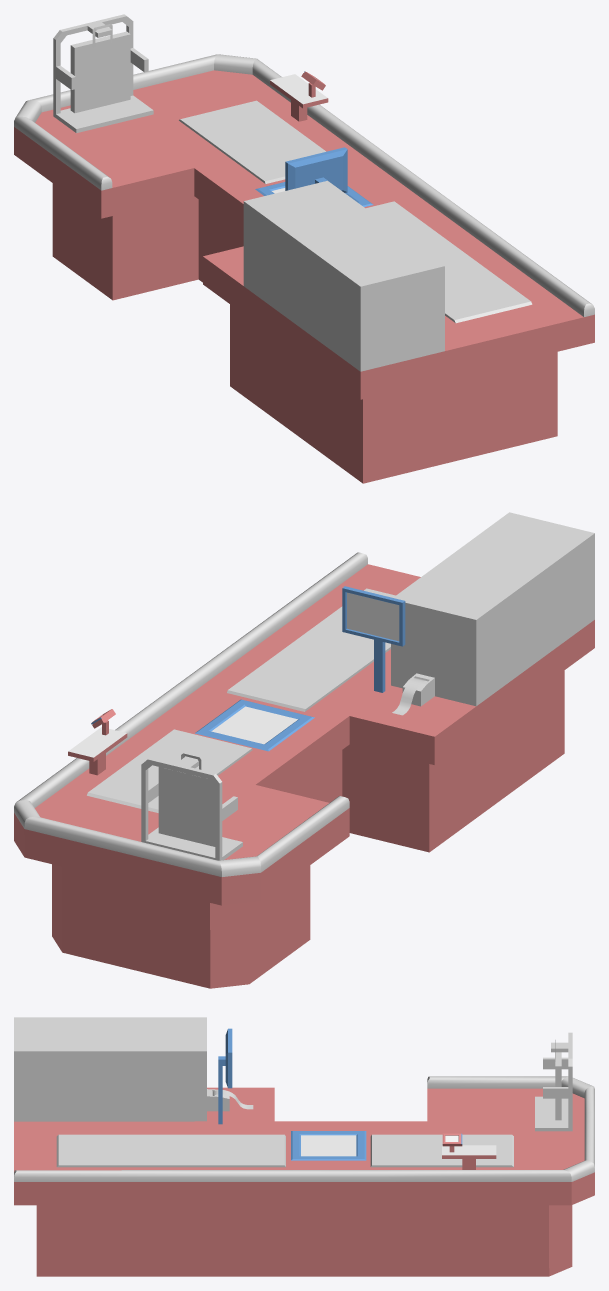
Rendered from Checkout.fbx.
3 views of the same model, one above another, from view 1: azimuth 30°, elevation 25°; view 2: azimuth 150°, elevation 25°; view 3: azimuth 270°, elevation 25° (orthographic). The views are drawn at different scales.
Parts seen in each view (by area): view 1: Desk, Shelf, Conveyor, Rail, Bag, BagStand, Screen, CardCounter; view 2: Desk, Shelf, Conveyor, Rail, Bag, BagStand, Screen, CardCounter; view 3: Desk, Shelf, Conveyor, Rail, BagStand, CardCounter, Screen, Bag, ReceiptPrinter.
Part boxes in pixels (x1,y1,x2,y2): Desk: [14, 70, 594, 483]; Shelf: [243, 180, 444, 371]; Conveyor: [179, 100, 532, 323]; Rail: [14, 54, 594, 316]; Bag: [70, 24, 130, 113]; BagStand: [53, 14, 153, 133]; Screen: [285, 147, 347, 192]; CardCounter: [270, 74, 328, 121]; Desk: [14, 564, 594, 988]; Shelf: [391, 512, 594, 706]; Conveyor: [87, 588, 395, 812]; Rail: [14, 552, 367, 876]; Bag: [158, 753, 215, 846]; BagStand: [141, 756, 242, 860]; Screen: [342, 586, 405, 692]; CardCounter: [68, 727, 127, 775]; Desk: [14, 1087, 594, 1276]; Shelf: [14, 1017, 206, 1121]; Conveyor: [56, 1134, 513, 1167]; Rail: [14, 1076, 594, 1181]; BagStand: [535, 1032, 572, 1131]; CardCounter: [442, 1145, 496, 1169]; Screen: [218, 1028, 232, 1124]; Bag: [555, 1040, 561, 1120]; ReceiptPrinter: [207, 1089, 229, 1111].
Size of the model in its own units: 2.05 by 1.81 by 5.12.
